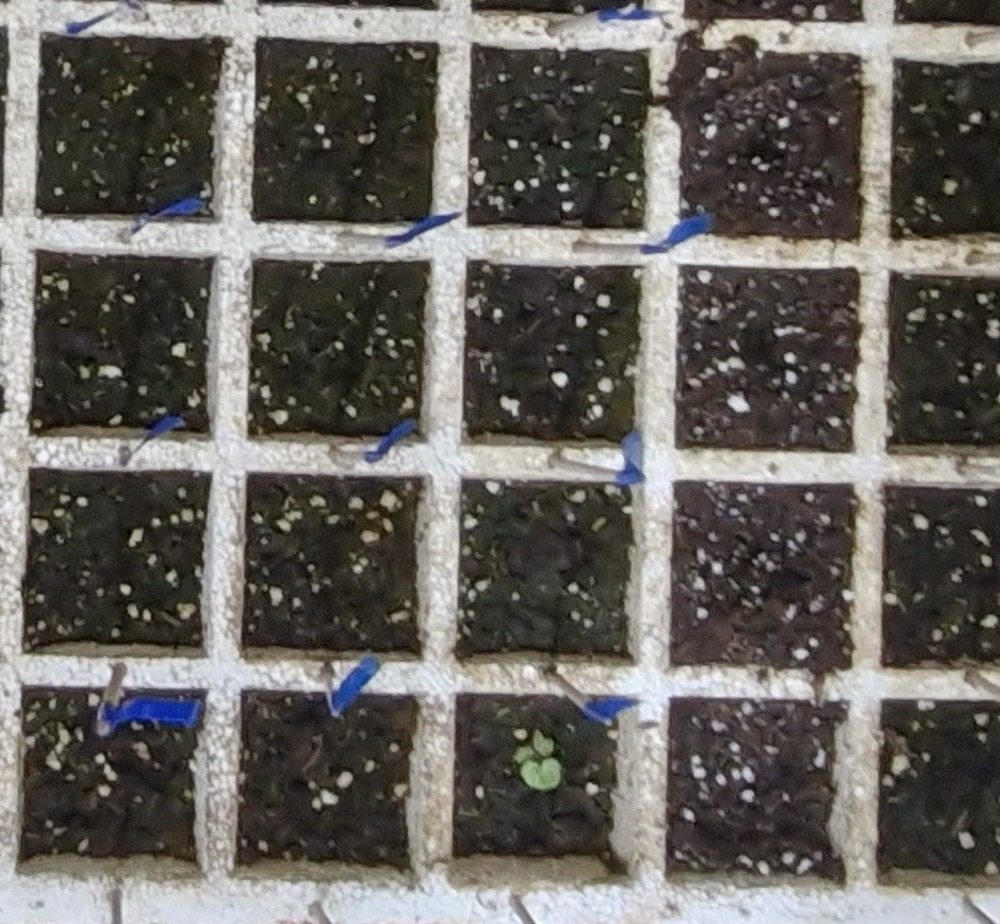Folha: (520, 758, 562, 788), (533, 728, 555, 757), (512, 745, 537, 762)
Germinacao: (512, 729, 563, 790)
